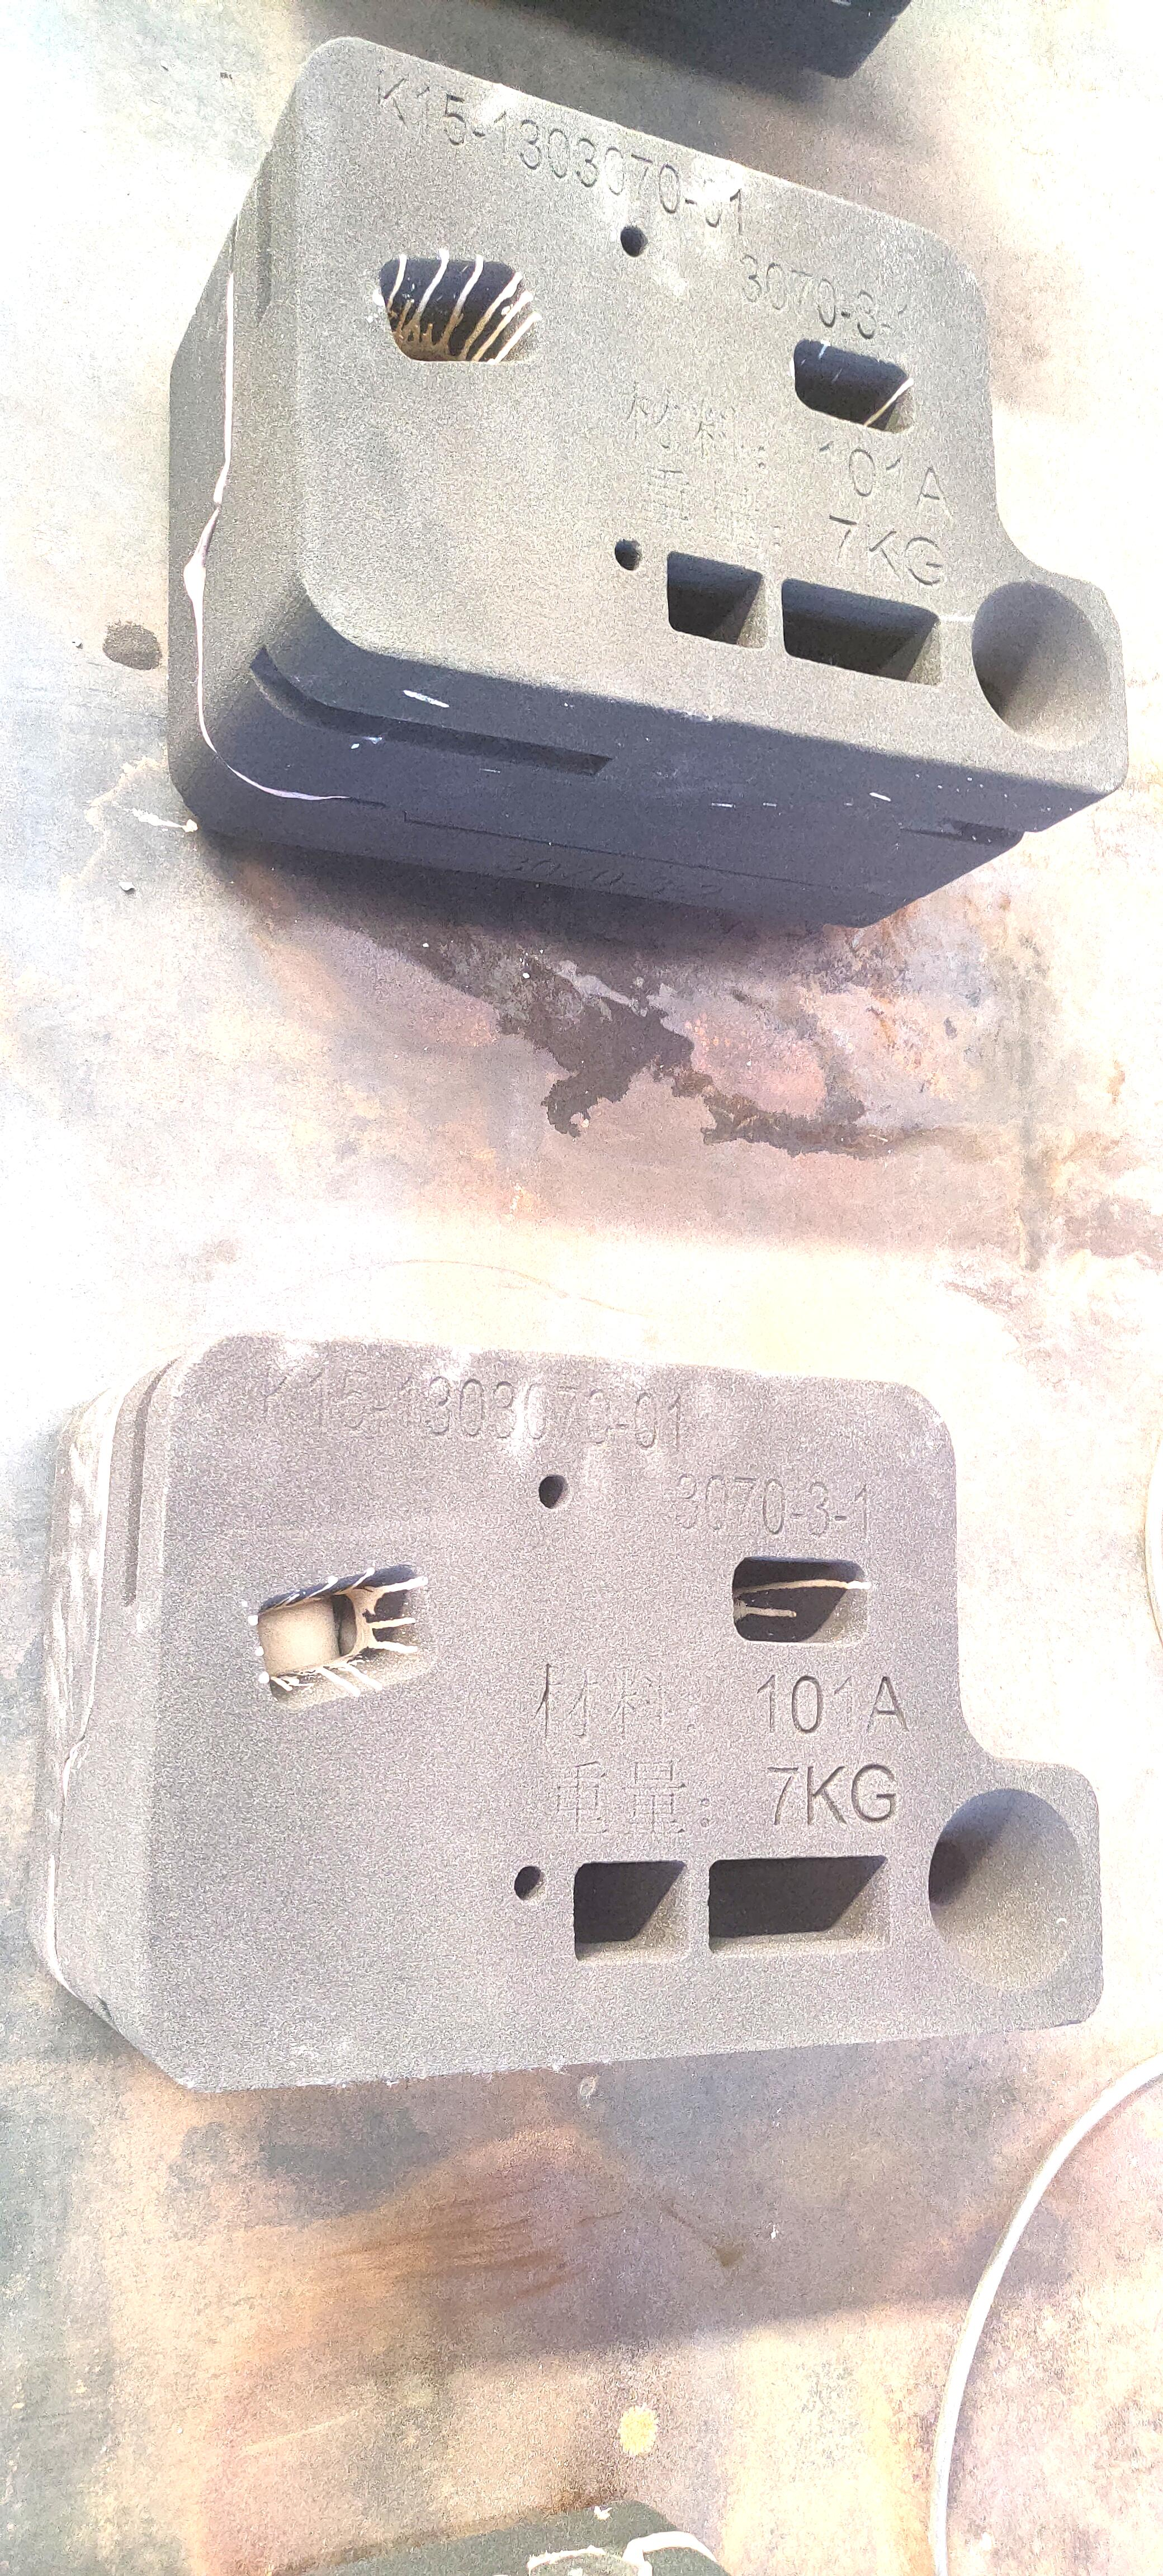pouring hole: (928, 1787, 1084, 1990), (972, 578, 1112, 751)
